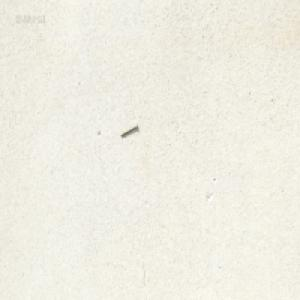Bolt: (120, 123, 137, 137)
